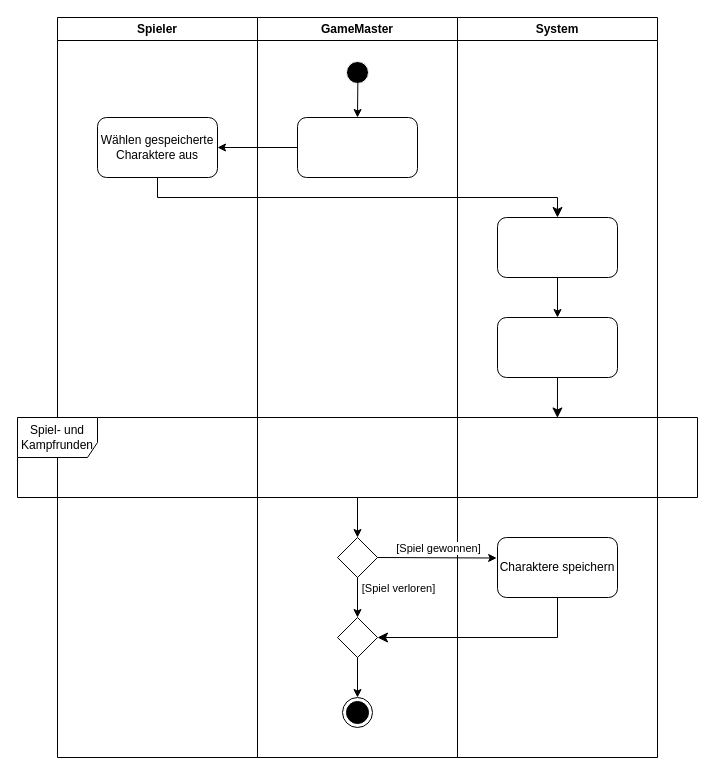
The diagram is 715 pixels wide and 775 high, and some of its shapes have lost their labels. The centre of each missing label's shape, as x and y in pixels:
"Drückt Button zum Spielstart" goes at (357,147).
"Karte laden und Charaktere platzieren" goes at (557,347).
"Prolog anzeigen" goes at (557,247).
